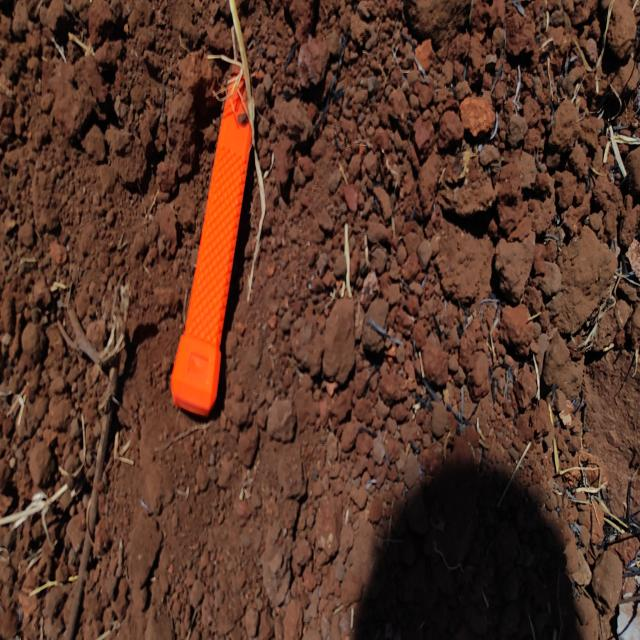Orange_hammer: (170, 64, 256, 427)
rock: (52, 47, 104, 143), (491, 226, 538, 313), (323, 290, 358, 388), (458, 86, 500, 148), (294, 30, 332, 98), (601, 3, 638, 69), (458, 91, 498, 137), (423, 334, 447, 394), (266, 405, 296, 444), (411, 320, 431, 351)
